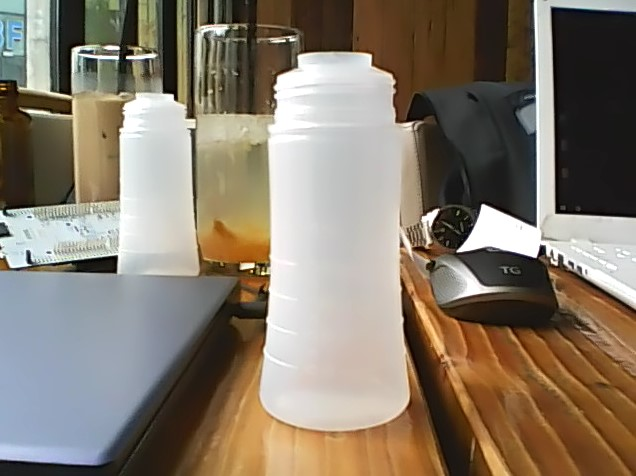Plastic: (257, 47, 413, 432)
